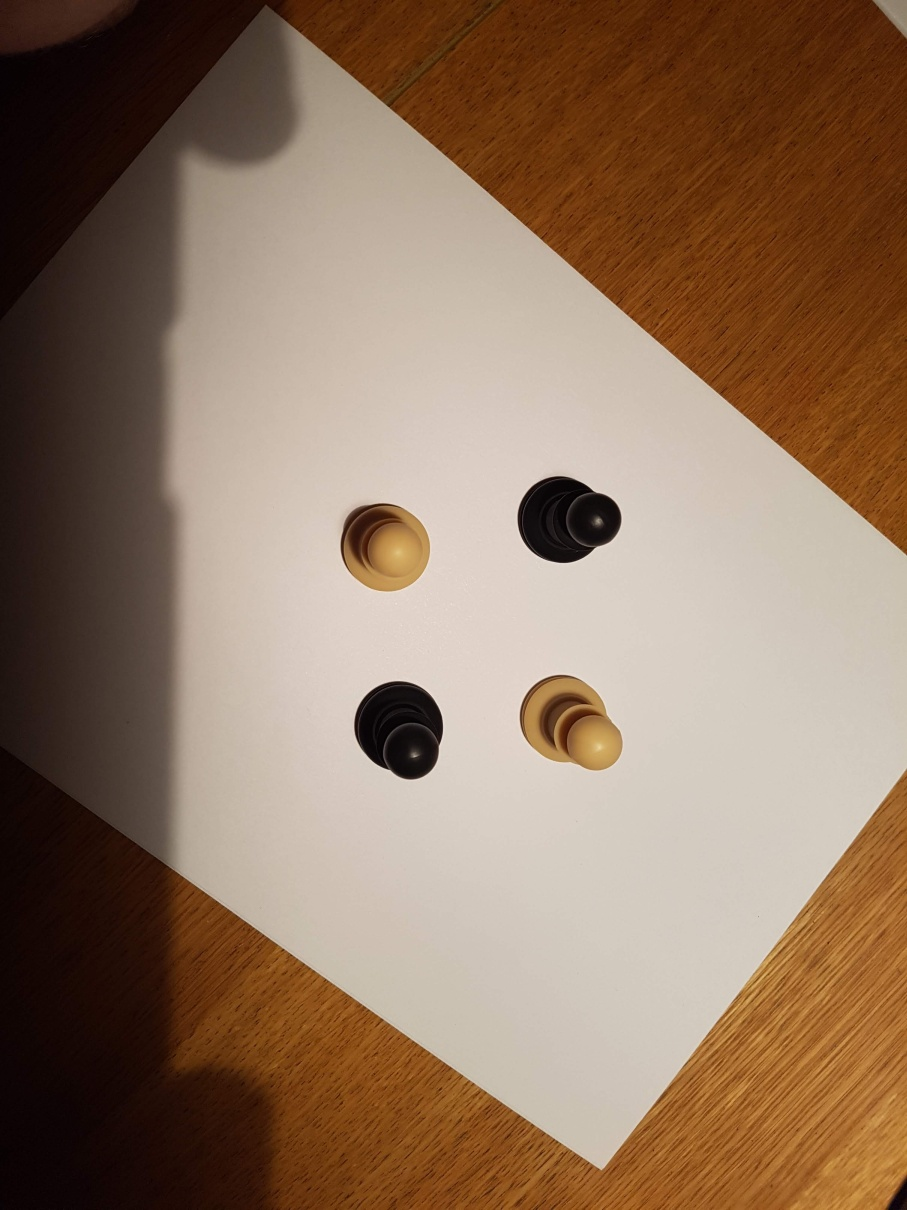chess_pawn: (519, 674, 626, 771), (355, 681, 446, 781), (517, 477, 621, 561), (339, 502, 432, 594)
